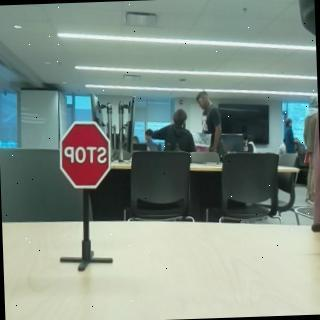sign_stop: (57, 119, 114, 192)
